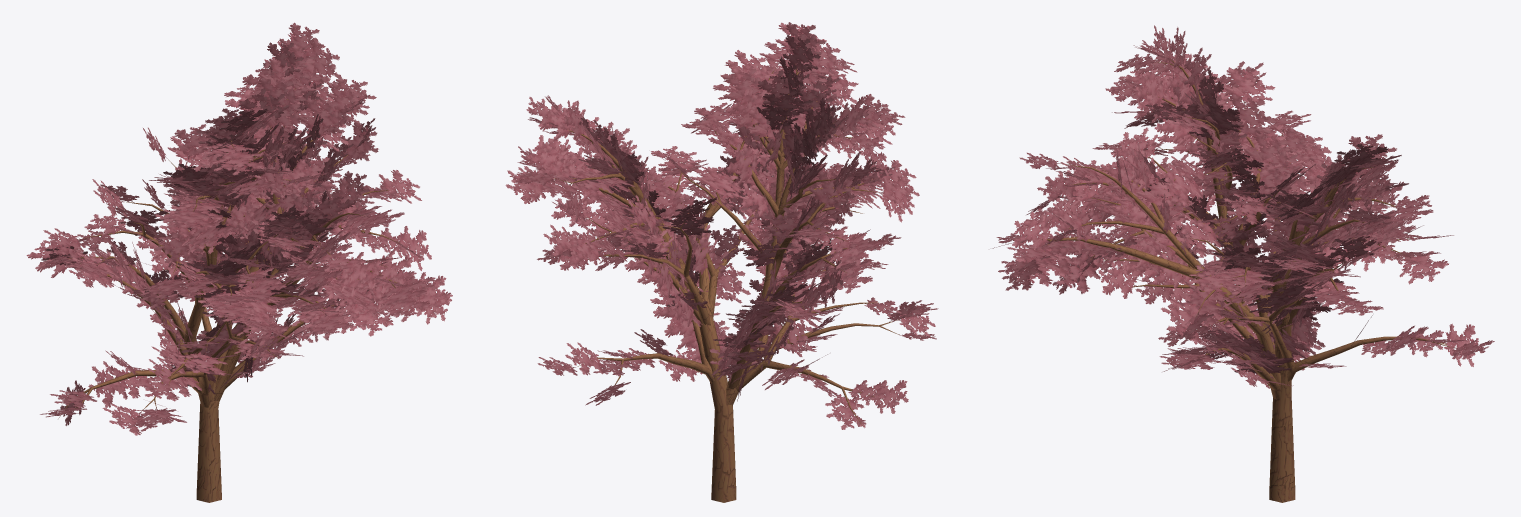
Rendered from Cherry.fbx.
The picture shows the model from 3 angles, left to right: view 1: azimuth 30°, elevation 25°; view 2: azimuth 150°, elevation 25°; view 3: azimuth 270°, elevation 25°; orthographic projection. The views are drawn at different scales.
Visible parts, largest first — view 1: CherryLeaves_LOD0, Cherry_LOD0; view 2: CherryLeaves_LOD0, Cherry_LOD0; view 3: CherryLeaves_LOD0, Cherry_LOD0.
Boxes of the visible parts, bbox=[...] form: CherryLeaves_LOD0: bbox=[26, 22, 452, 435]; Cherry_LOD0: bbox=[58, 88, 400, 502]; CherryLeaves_LOD0: bbox=[505, 22, 938, 429]; Cherry_LOD0: bbox=[552, 66, 898, 502]; CherryLeaves_LOD0: bbox=[992, 25, 1494, 388]; Cherry_LOD0: bbox=[1041, 60, 1455, 502].
Size of what is drawn, in the model's own units: 682 by 751 by 785.
